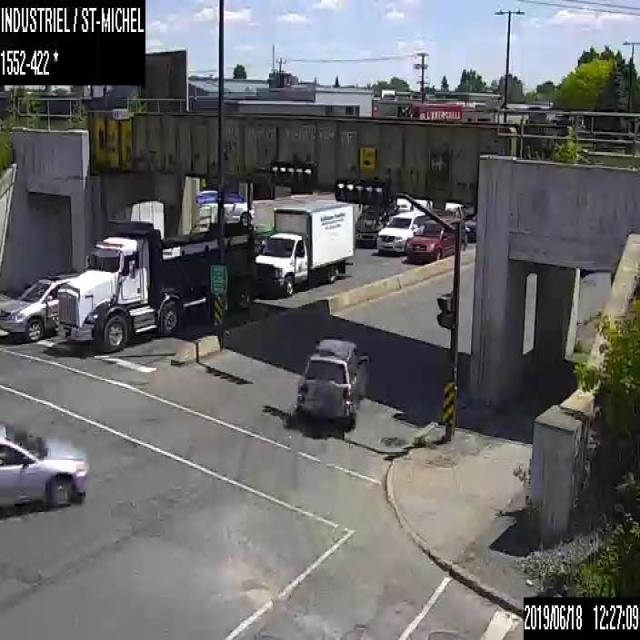vehicle: (58, 218, 253, 348), (254, 198, 353, 295), (0, 422, 87, 506), (295, 337, 368, 428), (0, 269, 83, 339), (404, 217, 466, 258), (354, 192, 398, 247), (194, 188, 253, 228), (376, 210, 424, 254), (453, 204, 476, 242)
